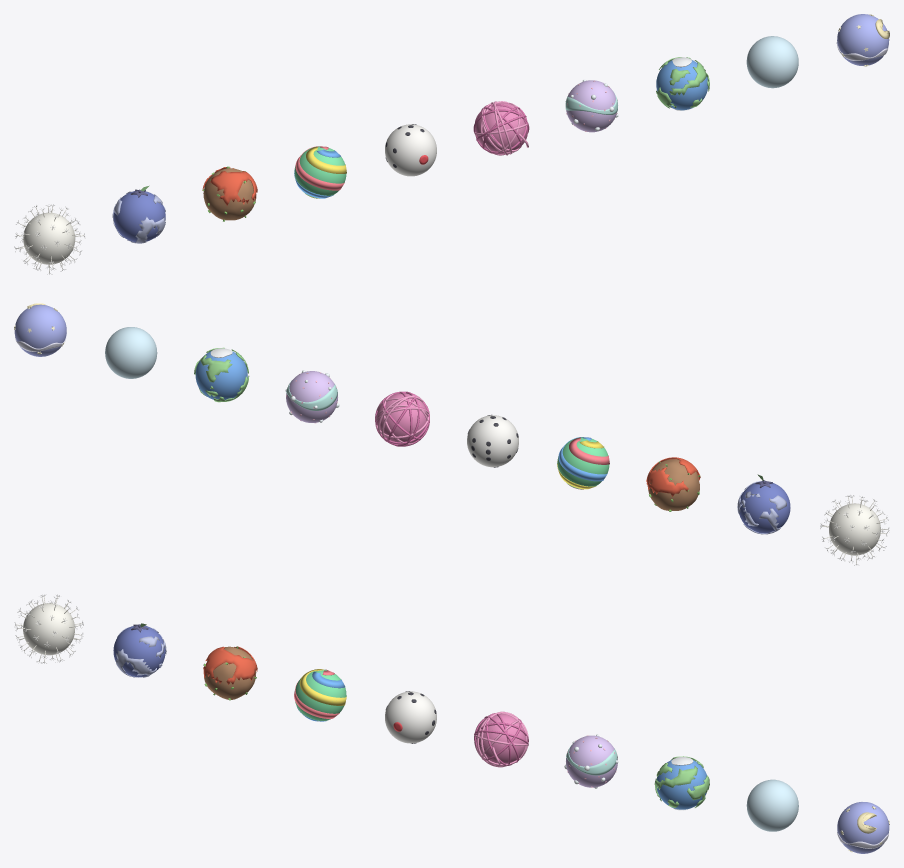
The model's file is BallsWorld4.fbx.
The picture shows the model from 3 angles, top to bottom: view 1: azimuth 30°, elevation 25°; view 2: azimuth 150°, elevation 25°; view 3: azimuth 330°, elevation 25°; orthographic projection.
Visible parts, largest first — view 1: cats_eye_marble__Shell, dandelion_puff_ball__Shell, lucky_dice_ball__Shell, dream_orb__Shell, bath_bomb_ball__Shell, blueberry_ball__Shell, meatball_ball__Shell, mini_globe_ball__Shell, yarn_ball__Shell, bouncy_ball__Shell, meatball_ball__Sauce, mini_globe_ball__Land (+4 smaller); view 2: dandelion_puff_ball__Shell, cats_eye_marble__Shell, lucky_dice_ball__Shell, dream_orb__Shell, bath_bomb_ball__Shell, blueberry_ball__Shell, mini_globe_ball__Shell, meatball_ball__Shell, yarn_ball__Shell, bouncy_ball__Shell, yarn_ball__Strands2, meatball_ball__Sauce (+4 smaller); view 3: cats_eye_marble__Shell, dandelion_puff_ball__Shell, lucky_dice_ball__Shell, dream_orb__Shell, bath_bomb_ball__Shell, blueberry_ball__Shell, mini_globe_ball__Shell, yarn_ball__Shell, meatball_ball__Shell, bouncy_ball__Shell, meatball_ball__Sauce, mini_globe_ball__Land (+6 smaller).
Boxes of the visible parts, x1,y1,x2,y2 form: cats_eye_marble__Shell: [746, 36, 798, 88]; dandelion_puff_ball__Shell: [23, 212, 75, 264]; lucky_dice_ball__Shell: [385, 124, 436, 176]; dream_orb__Shell: [837, 14, 889, 65]; bath_bomb_ball__Shell: [566, 80, 616, 132]; blueberry_ball__Shell: [113, 191, 165, 242]; meatball_ball__Shell: [203, 168, 256, 220]; mini_globe_ball__Shell: [656, 60, 708, 110]; yarn_ball__Shell: [475, 102, 526, 154]; bouncy_ball__Shell: [294, 146, 346, 198]; meatball_ball__Sauce: [202, 167, 257, 205]; mini_globe_ball__Land: [656, 57, 709, 108]; dandelion_puff_ball__Shell: [829, 503, 880, 555]; cats_eye_marble__Shell: [105, 327, 157, 378]; lucky_dice_ball__Shell: [467, 415, 518, 467]; dream_orb__Shell: [14, 304, 66, 356]; bath_bomb_ball__Shell: [286, 371, 337, 422]; blueberry_ball__Shell: [739, 483, 790, 533]; mini_globe_ball__Shell: [195, 351, 247, 399]; meatball_ball__Shell: [647, 459, 699, 510]; yarn_ball__Shell: [376, 393, 427, 444]; bouncy_ball__Shell: [557, 437, 609, 489]; yarn_ball__Strands2: [375, 391, 429, 446]; meatball_ball__Sauce: [646, 457, 700, 496]; cats_eye_marble__Shell: [746, 779, 798, 831]; dandelion_puff_ball__Shell: [23, 603, 74, 655]; lucky_dice_ball__Shell: [385, 691, 436, 743]; dream_orb__Shell: [837, 802, 889, 853]; bath_bomb_ball__Shell: [566, 735, 617, 787]; blueberry_ball__Shell: [113, 626, 165, 677]; mini_globe_ball__Shell: [656, 759, 706, 809]; yarn_ball__Shell: [476, 714, 525, 763]; meatball_ball__Shell: [204, 646, 256, 699]; bouncy_ball__Shell: [295, 669, 346, 720]; meatball_ball__Sauce: [203, 646, 257, 684]; mini_globe_ball__Land: [654, 756, 709, 807].
Size of the model in its own units: 3832 by 272 by 268.
